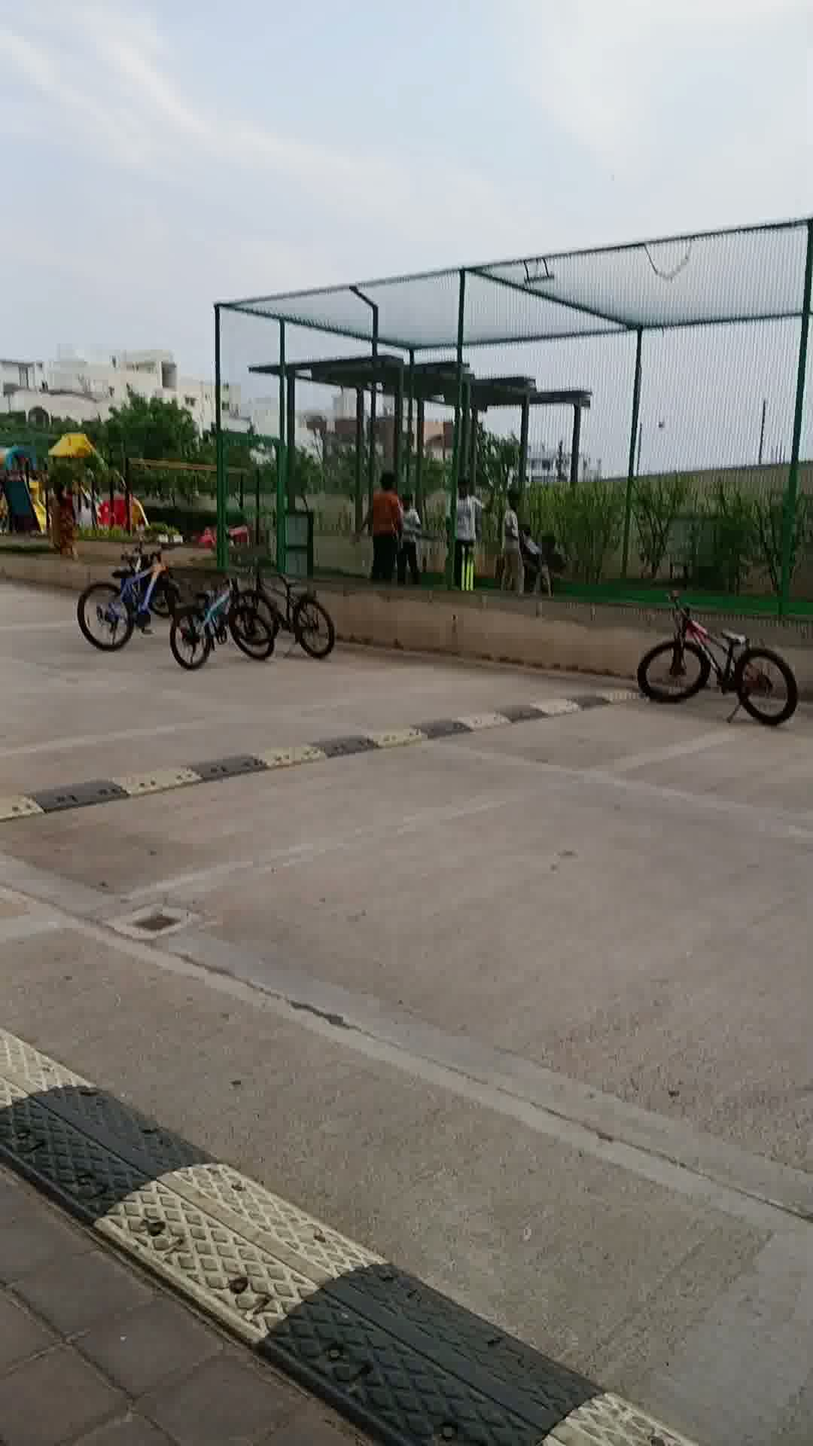bicycle: (634, 569, 811, 754), (238, 550, 344, 663), (68, 557, 199, 647), (161, 582, 273, 674)
person: (365, 461, 418, 581), (443, 468, 492, 595), (499, 470, 537, 602), (44, 471, 92, 572), (395, 465, 425, 583), (537, 518, 568, 604)
